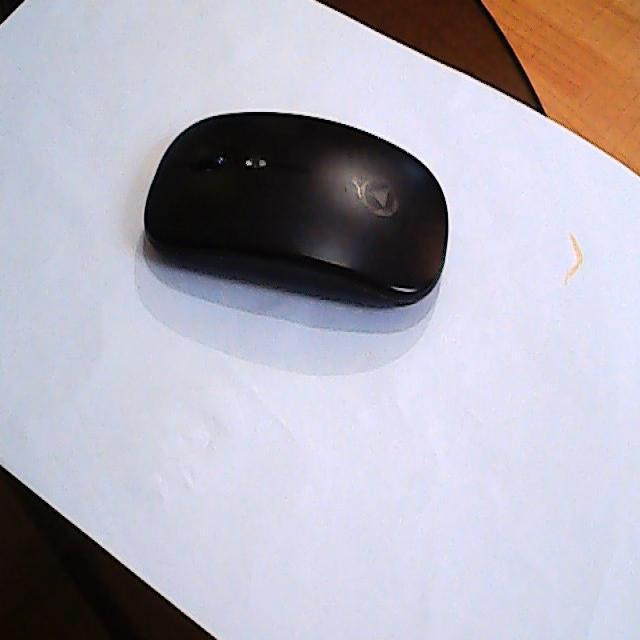Mouse: (143, 108, 450, 310)
